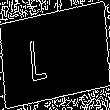L_N: (45, 27, 65, 83)
